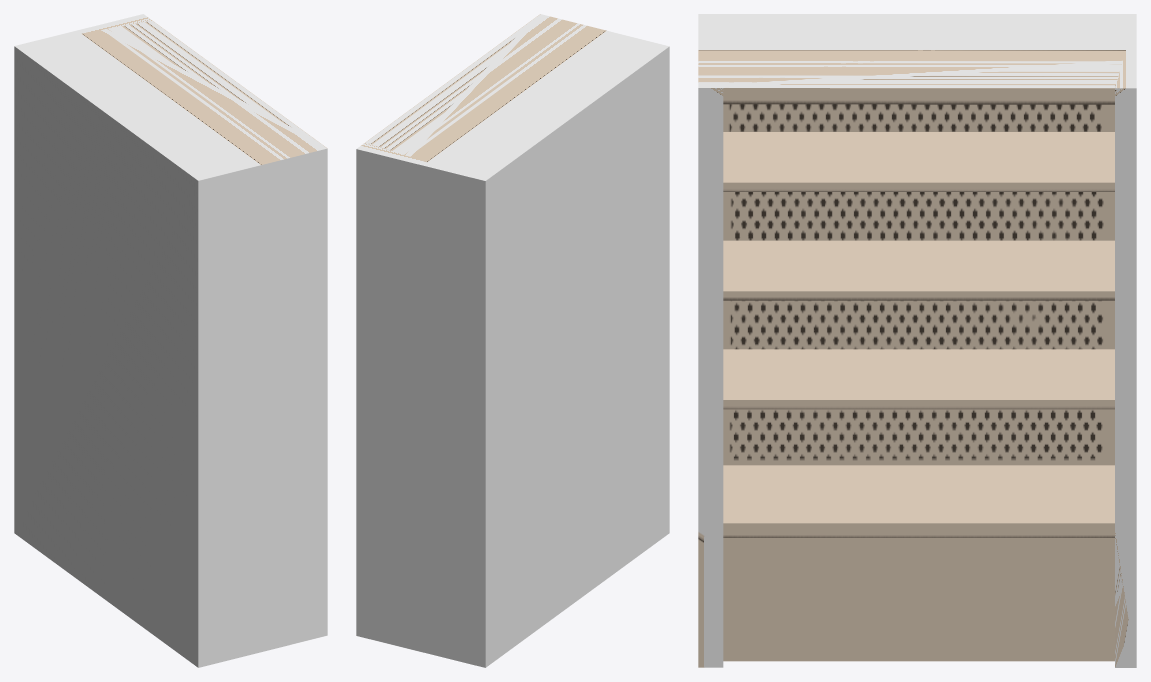
Rendered from S.FruitVegFridge.fbx.
3 views of the same model, side by side, from view 1: azimuth 30°, elevation 25°; view 2: azimuth 150°, elevation 25°; view 3: azimuth 270°, elevation 25° (orthographic). The views are drawn at different scales.
Parts seen in each view (by area): view 1: Veg Fridge; view 2: Veg Fridge; view 3: Veg Fridge.
Part boxes in pixels (bbox=[...]): Veg Fridge: bbox=[14, 14, 327, 667]; Veg Fridge: bbox=[356, 14, 669, 667]; Veg Fridge: bbox=[698, 14, 1136, 667].
Bounding box in the file's own units: 167 × 601 × 411.
